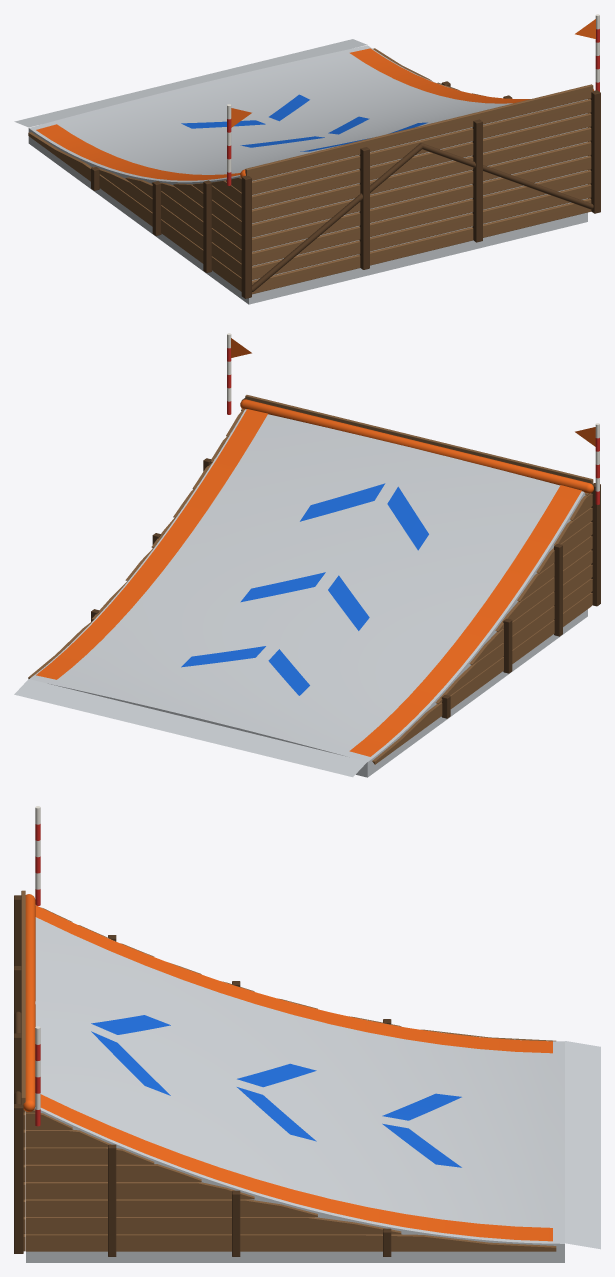
Rendered from kar-rampa.glb.
3 renders of one model, top to bottom at view 1: azimuth 30°, elevation 25°; view 2: azimuth 150°, elevation 25°; view 3: azimuth 270°, elevation 25°, orthographic. The views are drawn at different scales.
Visible parts, largest first — view 1: tahta-rampa, kar-rampa.001, tahta-dikme, turuncu-rampa, mavi-boya, beyaz-direk; view 2: kar-rampa.001, turuncu-rampa, tahta-rampa, mavi-boya, tahta-dikme; view 3: kar-rampa.001, tahta-rampa, turuncu-rampa, mavi-boya, tahta-dikme, beyaz-direk, kirmizi-direk.
Part boxes in pixels (box(x1,y1,x2,y2)): tahta-rampa: box(28, 48, 593, 294); kar-rampa.001: box(14, 39, 587, 304); tahta-dikme: box(91, 81, 600, 298); turuncu-rampa: box(36, 19, 595, 180); mavi-boya: box(181, 94, 427, 151); beyaz-direk: box(227, 14, 599, 172); kar-rampa.001: box(14, 409, 587, 777); turuncu-rampa: box(36, 338, 595, 756); tahta-rampa: box(28, 395, 593, 764); mavi-boya: box(181, 483, 428, 695); tahta-dikme: box(91, 398, 600, 718); kar-rampa.001: box(26, 908, 600, 1262); tahta-rampa: box(21, 890, 556, 1251); turuncu-rampa: box(23, 894, 552, 1241); mavi-boya: box(91, 1015, 461, 1167); tahta-dikme: box(14, 895, 391, 1256); beyaz-direk: box(35, 806, 40, 1109); kirmizi-direk: box(35, 824, 40, 1126).
Bounding box in the file's own units: 8.79 × 4.5 × 9.8.
